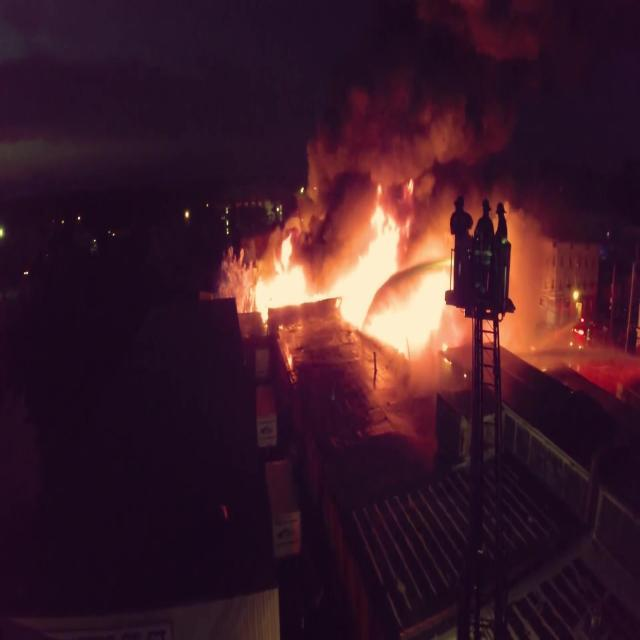Fire: (197, 75, 640, 409)
Smoke: (288, 8, 574, 170)
